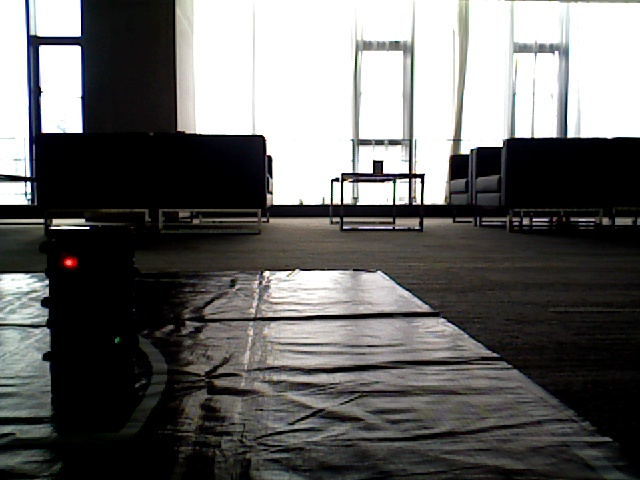red: (46, 232, 104, 349)
